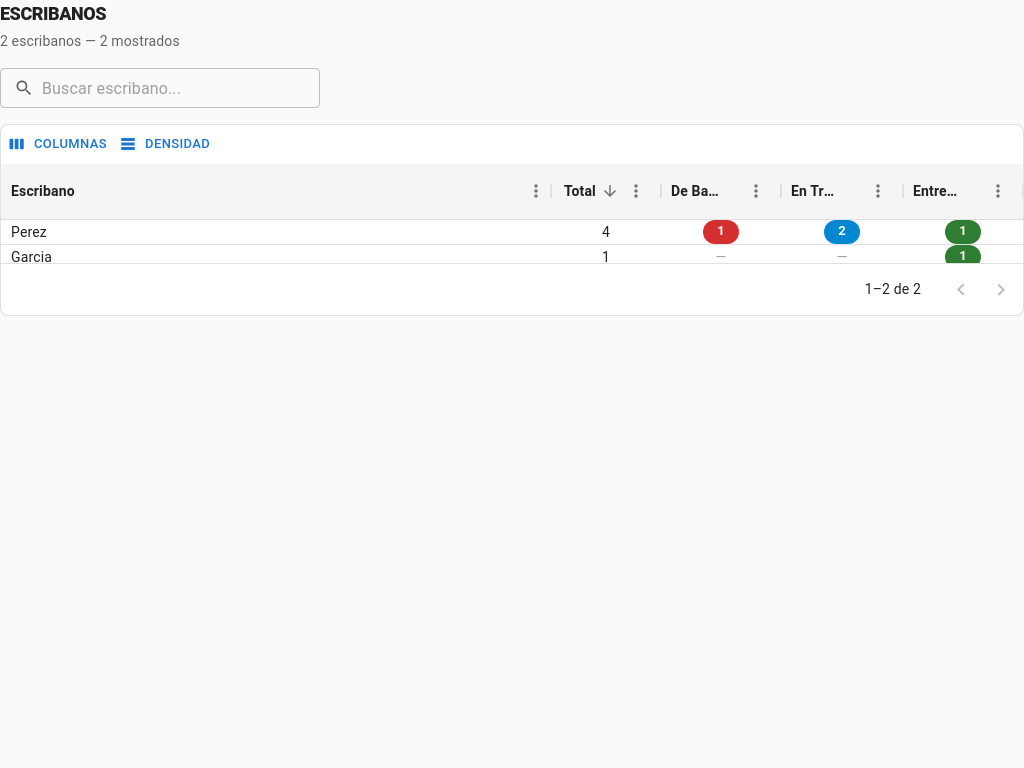
Test: EscribanosTab grid (P4b) › opens the SlidePanel with the escribano detail records on row click
The image size is (1024, 768).
Click the row "Perez 4 1 2 1": point(512, 232) [1,220,1023,245]
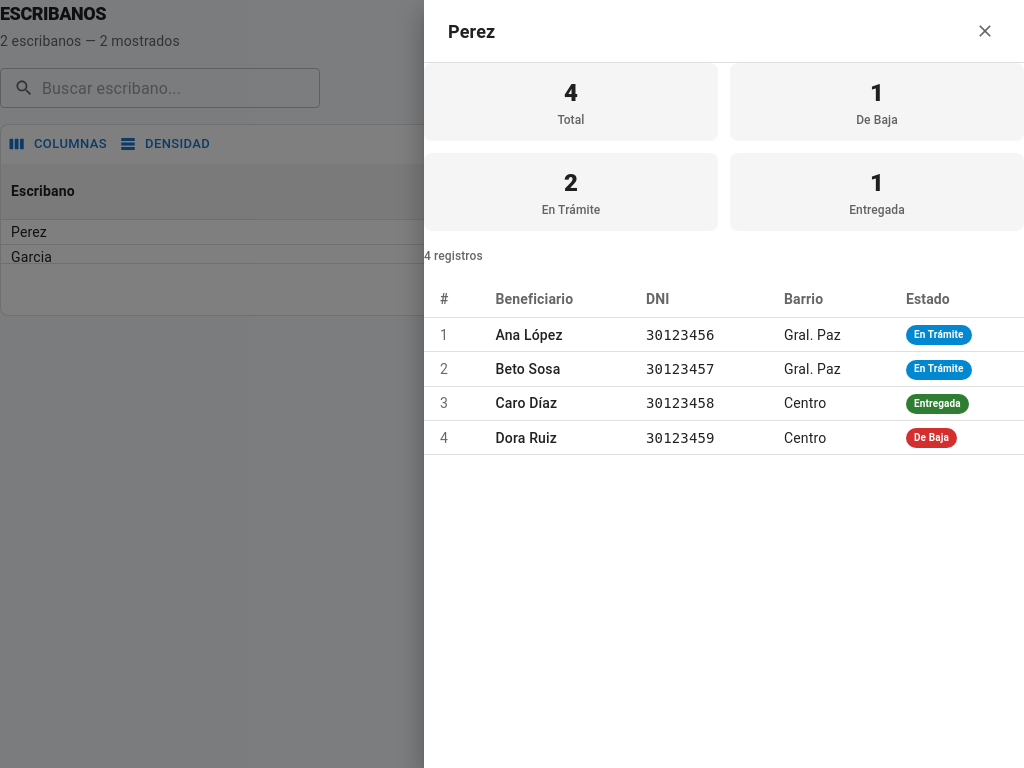
Check: the text "4 registros" is shown, box [424,249,483,263]
Check: the text "Ana López" is shown, box [480,318,630,352]
Check: the text "Dora Ruiz" is shown, box [480,420,630,455]
